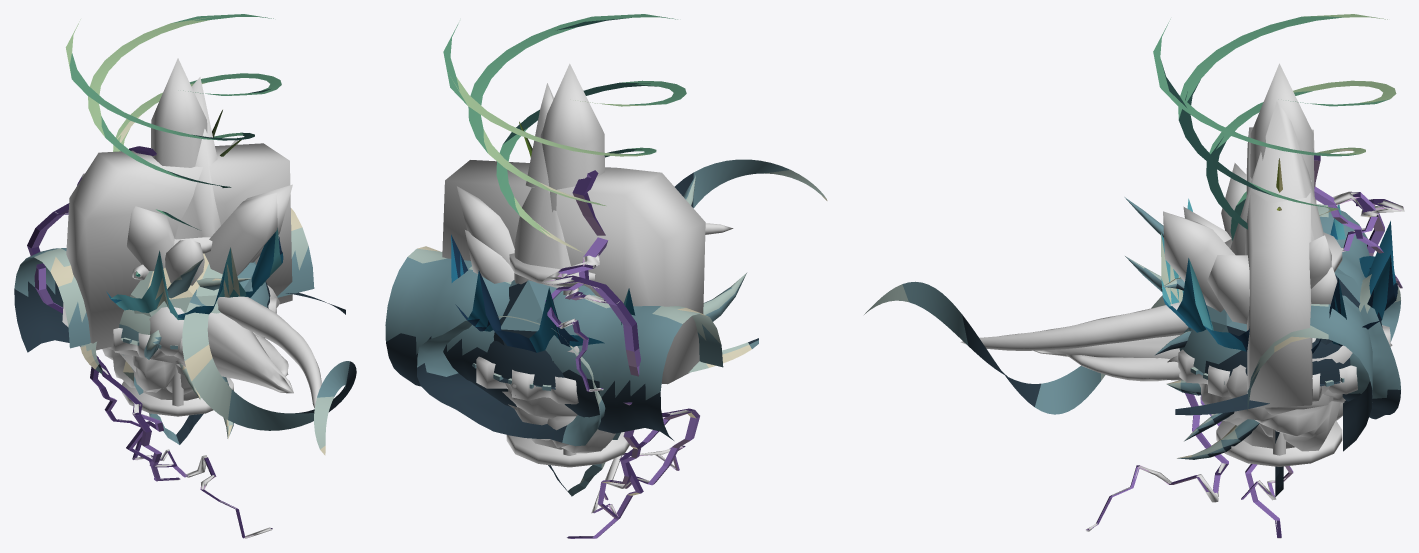
Rendered from Enfleshed_Cel_Existing_Meshes.fbx.
3 renders of one model, left to right at view 1: azimuth 30°, elevation 25°; view 2: azimuth 150°, elevation 25°; view 3: azimuth 270°, elevation 25°, orthographic. The views are drawn at different scales.
Parts seen in each view (by area): view 1: earth_slab_ink, ice_cluster_ink, water_curl, energy_ribbon, wind_funnel, ice_spike_ink, lightning_fork, comet_spike_ink, water_crown, sinew_tendril_ink, earth_spire_ink, hourglass_ink (+10 smaller); view 2: water_curl, earth_slab_ink, wind_funnel, lightning_fork, pressure_cone, ice_spike_ink, earth_spire_ink, water_crown, ice_cluster_ink, hourglass_ink, energy_ribbon, ward_dome (+7 smaller); view 3: earth_slab_ink, ice_cluster_ink, wind_funnel, water_curl, water_crown, energy_ribbon, sinew_tendril_ink, earth_spire_ink, fire_core_ink, lightning_fork, pressure_cone, hourglass_ink (+9 smaller).
Part boxes in pixels (<box>): earth_slab_ink: <box>62,143,292,350</box>; ice_cluster_ink: <box>127,137,292,285</box>; water_curl: <box>14,208,314,352</box>; energy_ribbon: <box>182,289,356,455</box>; wind_funnel: <box>65,14,281,229</box>; ice_spike_ink: <box>151,58,207,167</box>; lightning_fork: <box>27,146,272,538</box>; comet_spike_ink: <box>176,313,293,393</box>; water_crown: <box>106,228,283,319</box>; sinew_tendril_ink: <box>217,296,321,407</box>; earth_spire_ink: <box>174,77,220,239</box>; hourglass_ink: <box>122,237,233,416</box>; water_curl: <box>385,246,723,440</box>; earth_slab_ink: <box>442,160,705,384</box>; wind_funnel: <box>443,14,686,252</box>; lightning_fork: <box>544,170,699,538</box>; pressure_cone: <box>417,316,605,446</box>; ice_spike_ink: <box>540,63,604,212</box>; earth_spire_ink: <box>514,83,570,288</box>; water_crown: <box>451,234,635,352</box>; ice_cluster_ink: <box>457,186,514,283</box>; hourglass_ink: <box>506,253,629,467</box>; energy_ribbon: <box>674,159,827,208</box>; ward_dome: <box>493,280,595,345</box>; earth_slab_ink: <box>1245,127,1316,408</box>; ice_cluster_ink: <box>1163,163,1337,324</box>; wind_funnel: <box>1153,14,1396,240</box>; water_curl: <box>1247,204,1372,451</box>; water_crown: <box>1161,198,1397,353</box>; energy_ribbon: <box>864,281,1165,414</box>; sinew_tendril_ink: <box>960,302,1188,350</box>; earth_spire_ink: <box>1230,101,1324,255</box>; fire_core_ink: <box>1199,277,1365,451</box>; lightning_fork: <box>1086,155,1403,537</box>; pressure_cone: <box>1342,274,1400,419</box>; hourglass_ink: <box>1216,232,1342,466</box>.
Bounding box in the file's own units: 301 × 514 × 519.
